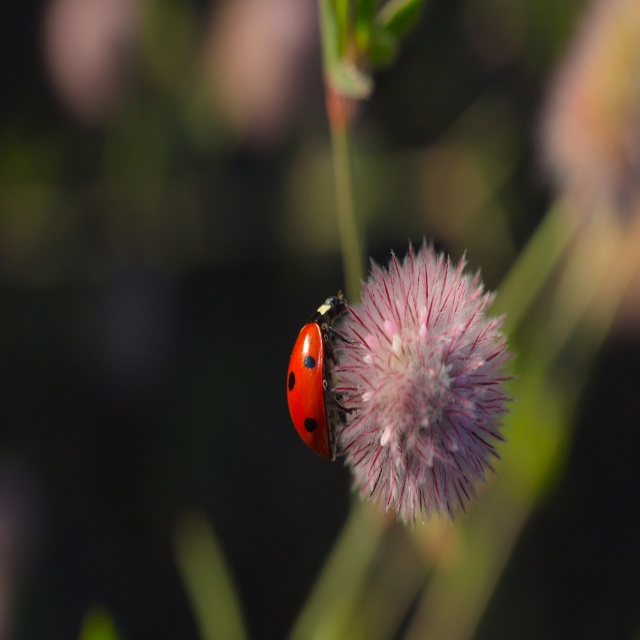Ladybug: (286, 292, 358, 464)
